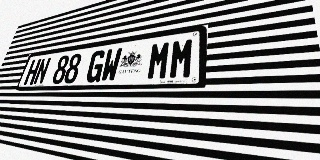8: (63, 53, 83, 84), (51, 55, 71, 84)
G: (85, 49, 107, 83)
H: (23, 59, 42, 85)
M: (168, 37, 195, 79), (146, 40, 172, 80)
N: (33, 57, 52, 85)
W: (100, 47, 123, 82)
